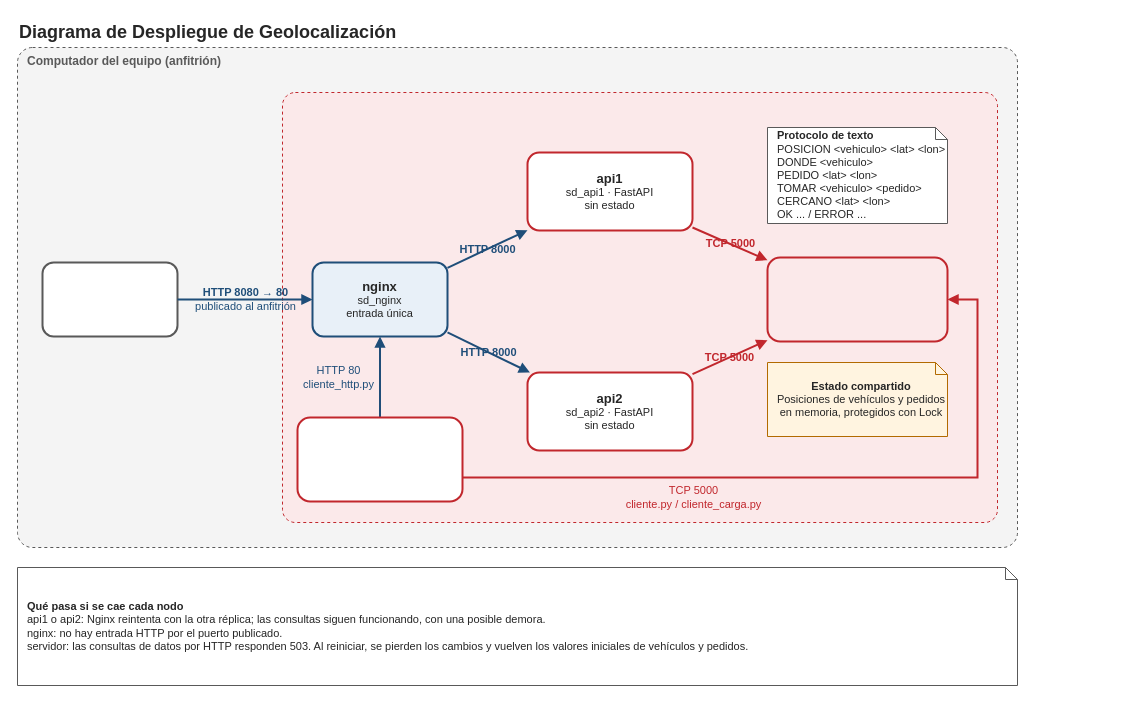
Image size: 1135x703. Some labels were removed from this diagram. The box of each missing label's shape, as (x1, y1, x2, y2) in pixels:
cliente sd_cliente cliente_http.py cliente.py / cliente_carga.py: (296, 416, 463, 502)
navegador del anfitrión: (41, 261, 178, 337)
Red Docker sd_net: (282, 92, 998, 522)
servidor sd_servidor · servidor.py hilo por cliente: (766, 256, 948, 342)
